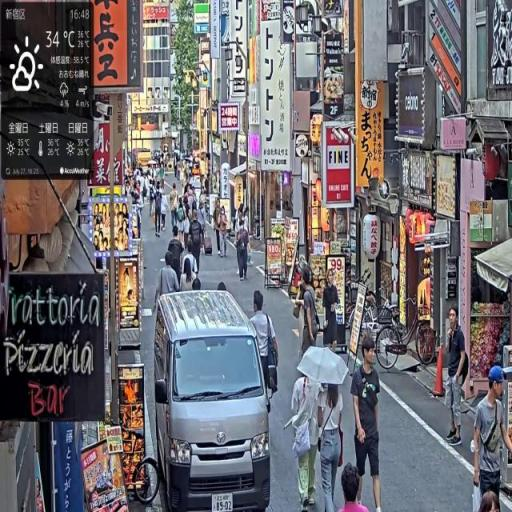person: (470, 362, 512, 510), (352, 334, 383, 512), (316, 381, 346, 512), (444, 306, 470, 447), (250, 290, 280, 400), (322, 270, 341, 354), (339, 463, 371, 512), (189, 211, 204, 274)
